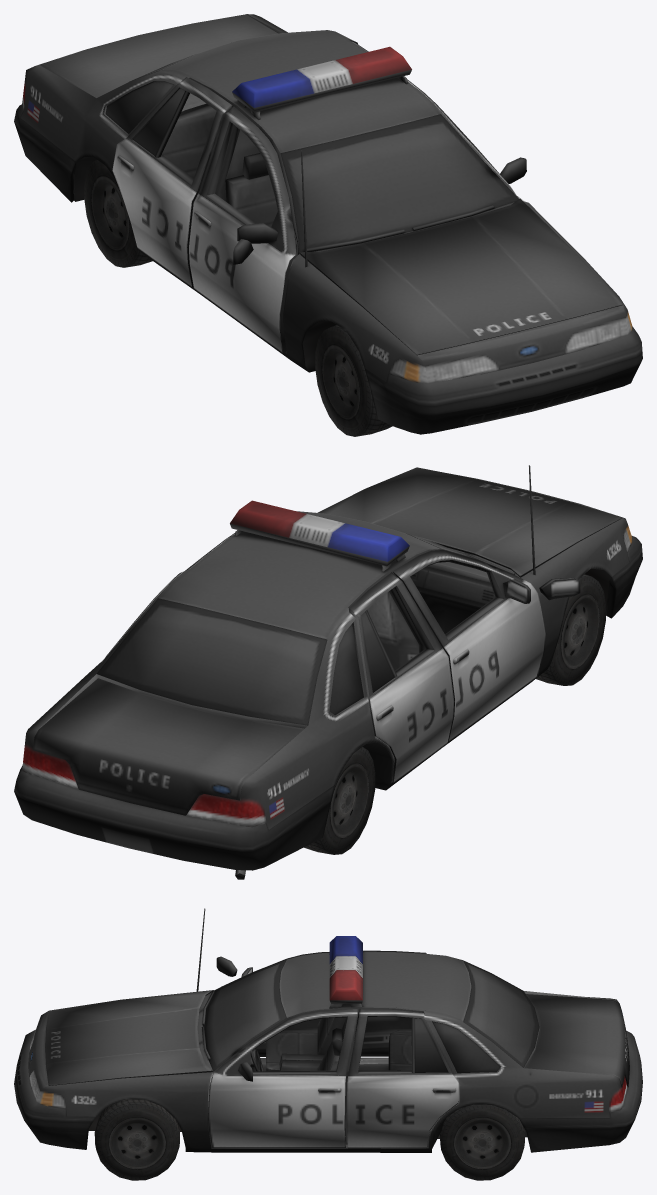
File: PoliceCar 1.fbx
3 views of the same model, one above another, from view 1: azimuth 30°, elevation 25°; view 2: azimuth 150°, elevation 25°; view 3: azimuth 270°, elevation 25° (orthographic). The views are drawn at different scales.
Parts seen in each view (by area): view 1: vic92_body_22___Default_0_001, vic92_body_22___Default_0_003, vic92_body_22___Default_0_002, vic92_tire002_04___Default_0_001, vic92_tire002_04___Default_0_002, vic92_body_22___Default_0_004; view 2: vic92_body_22___Default_0_001, vic92_body_22___Default_0_003, vic92_body_22___Default_0_002, vic92_tire002_04___Default_0_001, vic92_tire002_04___Default_0_002; view 3: vic92_body_22___Default_0_001, vic92_body_22___Default_0_004, vic92_body_22___Default_0_005, vic92_tire002_04___Default_0_003, vic92_tire002_04___Default_0_004, vic92_body_22___Default_0_002, vic92_body_22___Default_0_003.
Boxes of the visible parts, bbox=[...] form: vic92_body_22___Default_0_001: bbox=[14, 14, 642, 434]; vic92_body_22___Default_0_003: bbox=[189, 106, 297, 354]; vic92_body_22___Default_0_002: bbox=[112, 77, 232, 287]; vic92_tire002_04___Default_0_001: bbox=[315, 325, 392, 436]; vic92_tire002_04___Default_0_002: bbox=[84, 160, 152, 267]; vic92_body_22___Default_0_004: bbox=[407, 79, 526, 201]; vic92_body_22___Default_0_001: bbox=[14, 465, 642, 879]; vic92_body_22___Default_0_003: bbox=[393, 550, 546, 742]; vic92_body_22___Default_0_002: bbox=[349, 572, 454, 782]; vic92_tire002_04___Default_0_001: bbox=[536, 574, 605, 685]; vic92_tire002_04___Default_0_002: bbox=[304, 747, 375, 854]; vic92_body_22___Default_0_001: bbox=[14, 908, 642, 1152]; vic92_body_22___Default_0_004: bbox=[208, 1009, 357, 1147]; vic92_body_22___Default_0_005: bbox=[346, 1007, 458, 1148]; vic92_tire002_04___Default_0_003: bbox=[94, 1099, 179, 1180]; vic92_tire002_04___Default_0_004: bbox=[439, 1104, 524, 1180]; vic92_body_22___Default_0_002: bbox=[361, 950, 426, 1056]; vic92_body_22___Default_0_003: bbox=[213, 952, 329, 1056].
Size of the model in its own units: 258 by 195 by 596.
